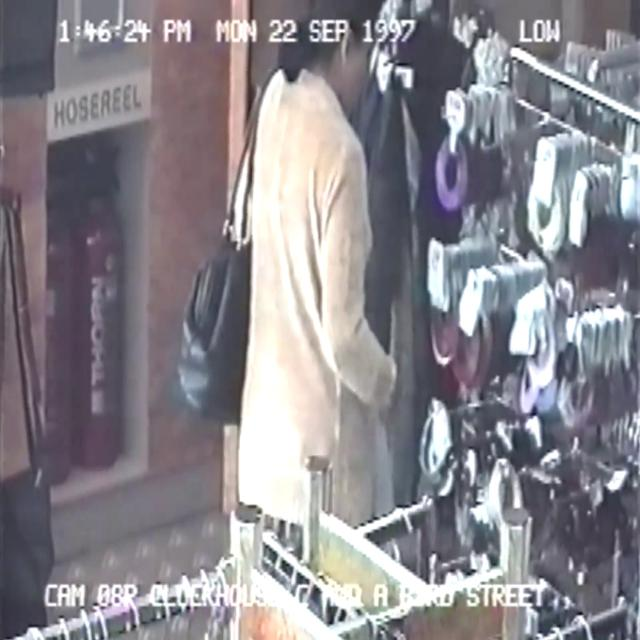normal: (158, 6, 432, 640)
